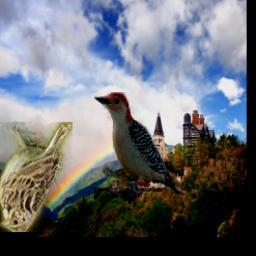Sparrow: (0, 123, 73, 233)
Woodpecker: (94, 92, 181, 193)
